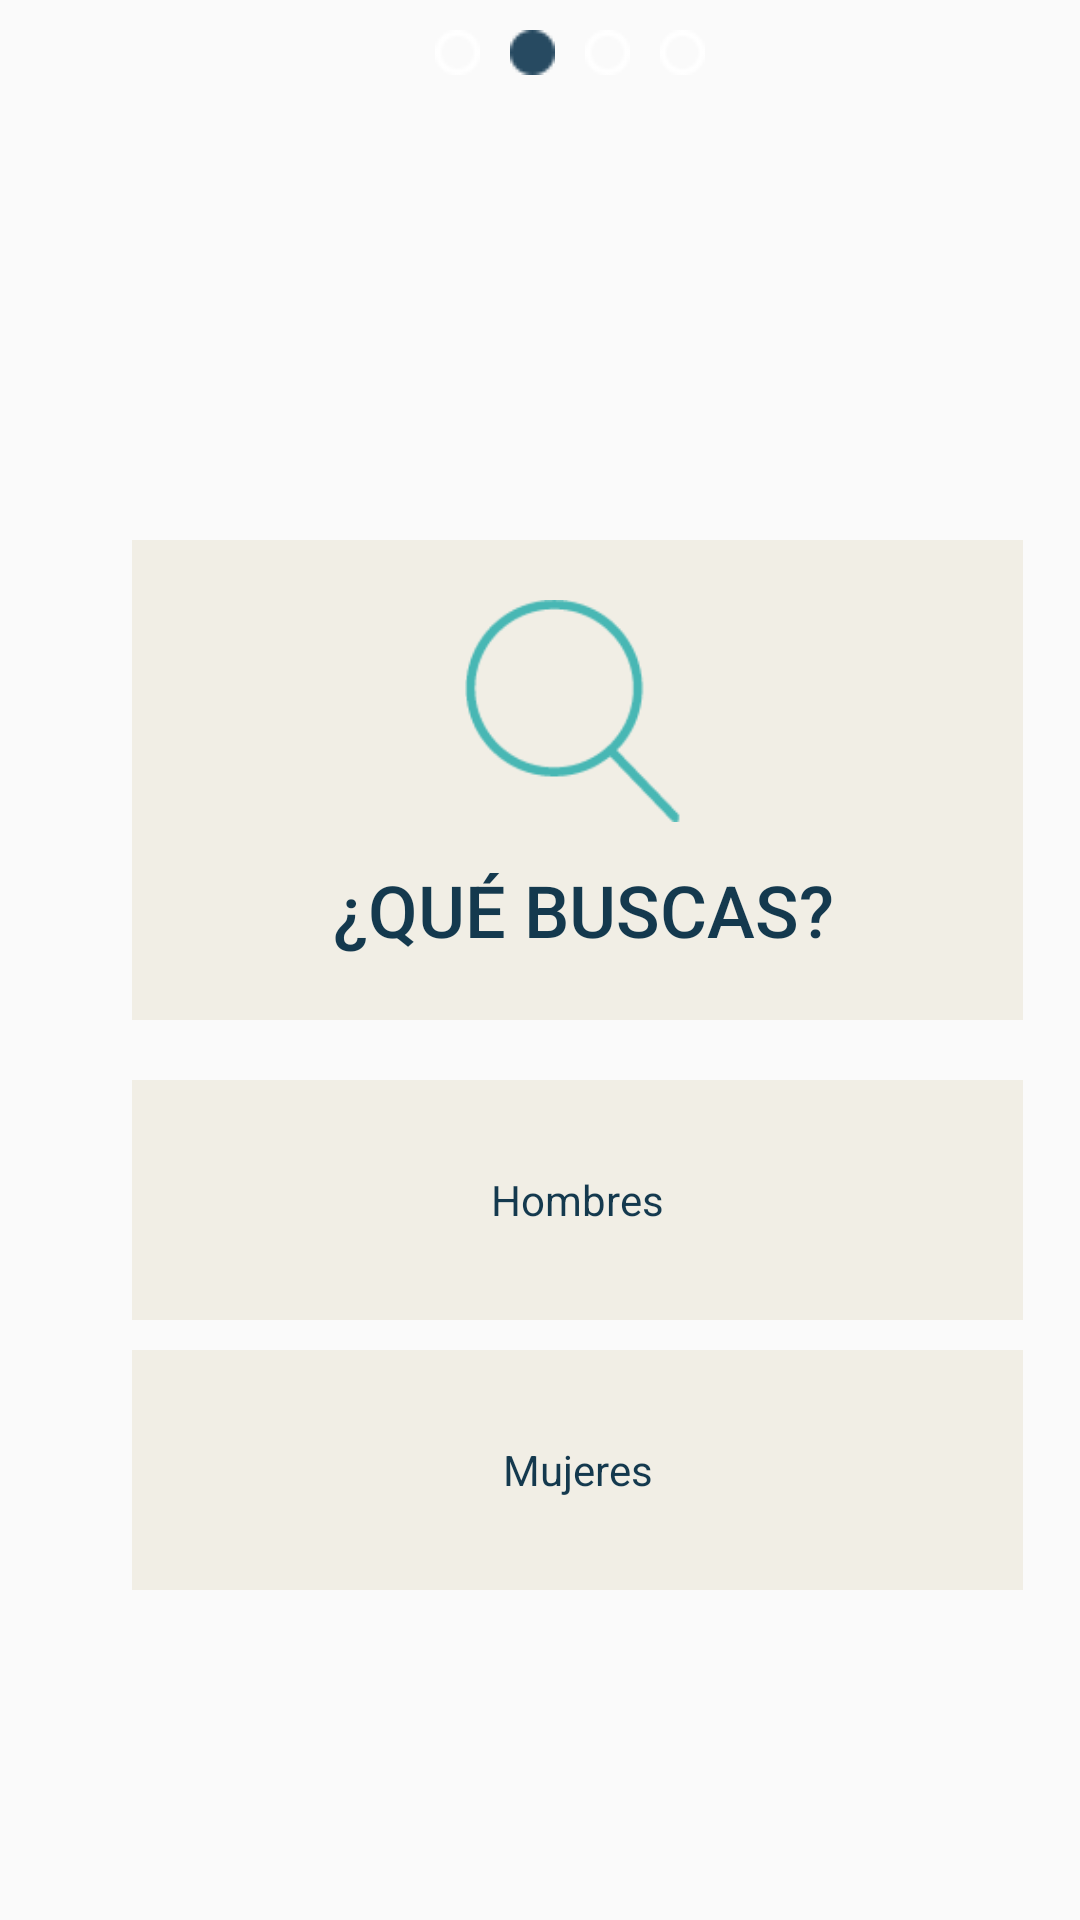

Icon bounding boxes for this 1080w x 1920h phone screenshot, format (x1, y1, x2, y2):
lupa: (465, 600, 680, 822)
